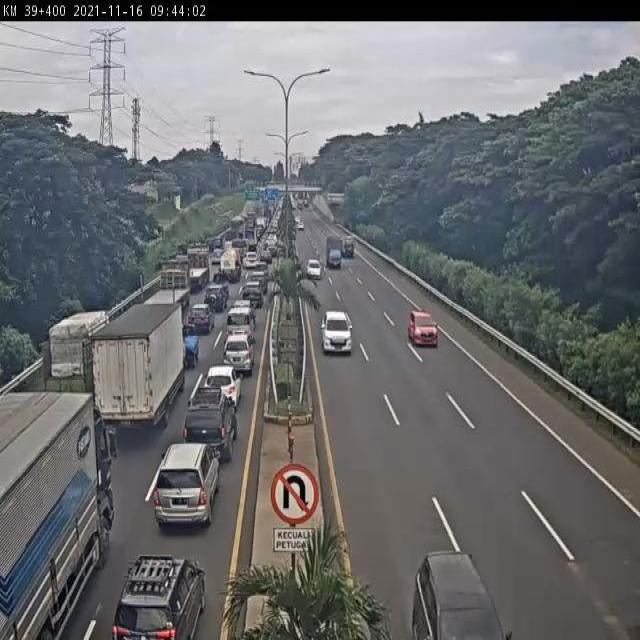car: (410, 548, 516, 640), (113, 553, 207, 640), (153, 441, 220, 532), (183, 388, 238, 465), (321, 308, 353, 356), (206, 364, 242, 405), (224, 331, 253, 373), (228, 307, 256, 348), (410, 308, 439, 345), (306, 257, 322, 280)
truck-l-: (147, 261, 190, 311), (183, 249, 210, 291)
truck-m-: (0, 392, 113, 640), (90, 303, 183, 437), (43, 313, 124, 428)
